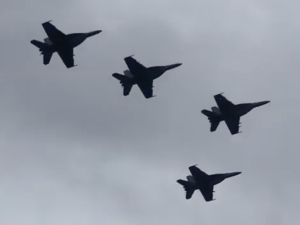flight: (30, 20, 102, 69), (111, 55, 183, 99), (200, 92, 271, 136), (176, 164, 243, 203)
